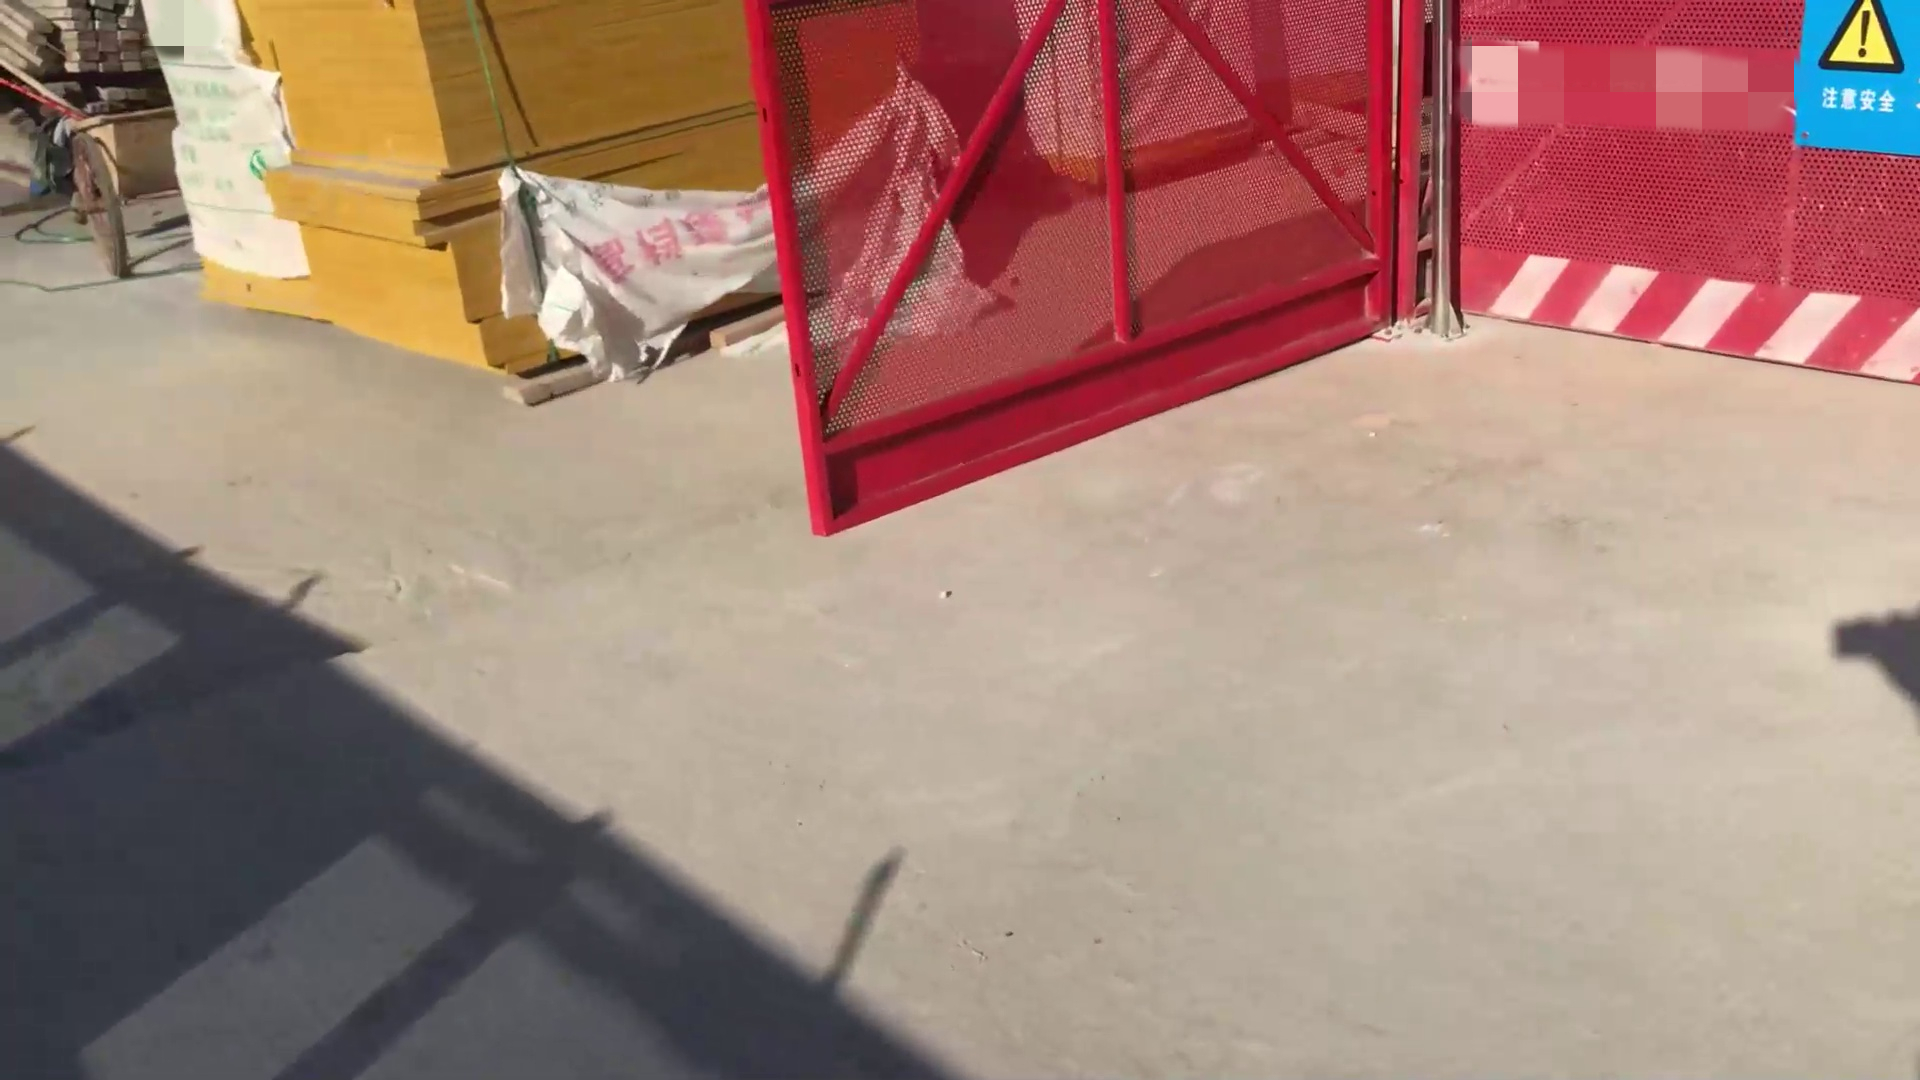board: (152, 4, 756, 372)
fence: (758, 11, 1419, 530), (1439, 8, 1920, 393)
handcart: (71, 103, 174, 284)
slogan: (1809, 1, 1920, 144)
wood: (7, 1, 165, 107)
